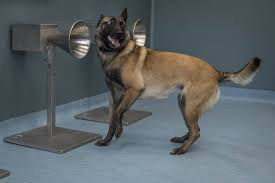dog: (85, 5, 188, 84)
